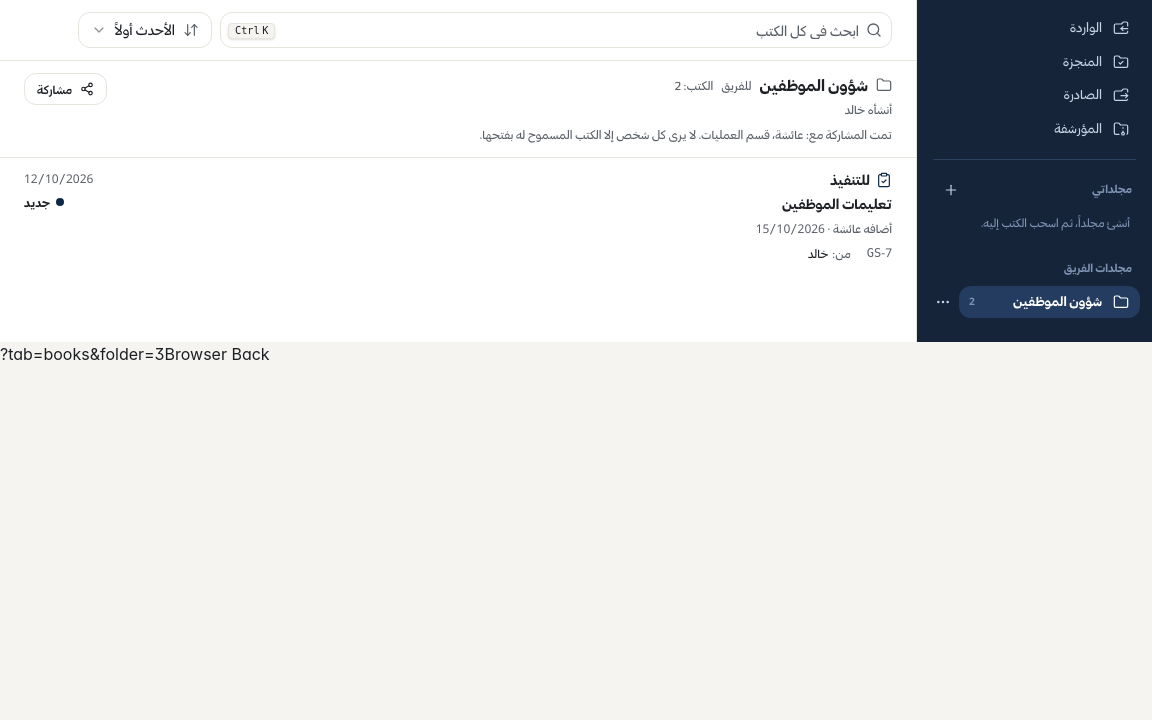
Test case: Books routing desk (Arabic) › uses Arabic folder details, filing metadata and a right-to-left share dialog
Click the button "مشاركة" at x=66, y=89, box x1=24 y1=73 x2=107 y2=105
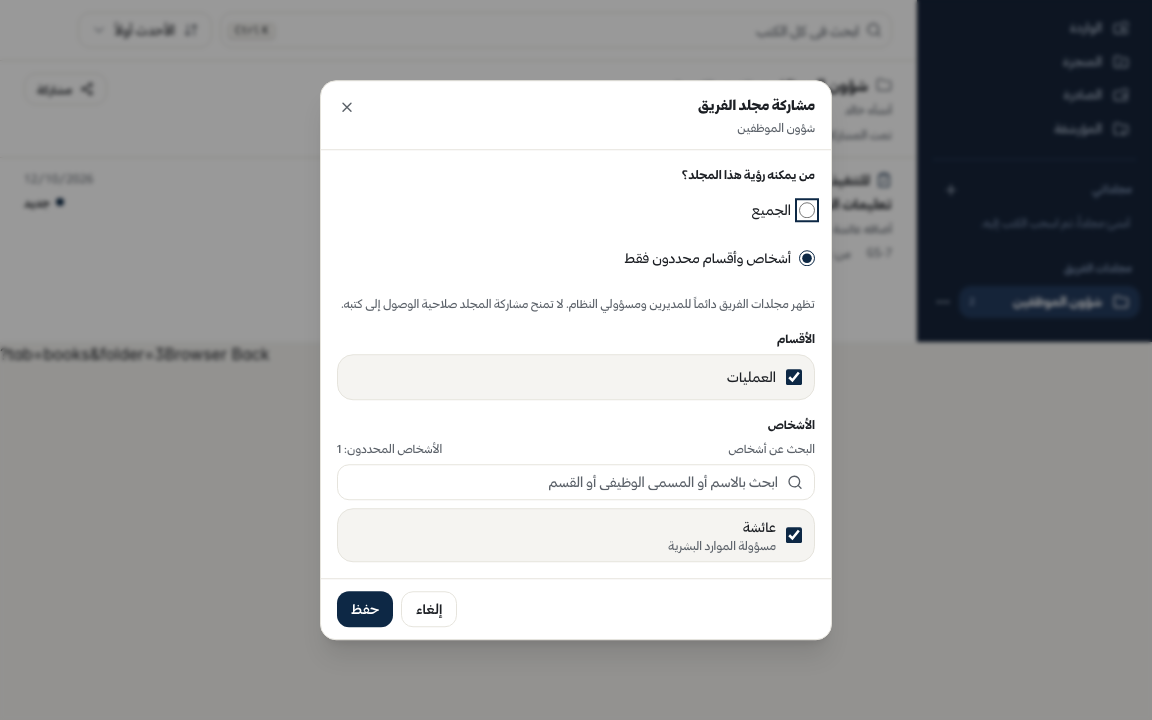
Check: the checkbox labelled "عائشة مسؤولة الموارد البشرية" is checked, box x1=786 y1=527 x2=802 y2=543
